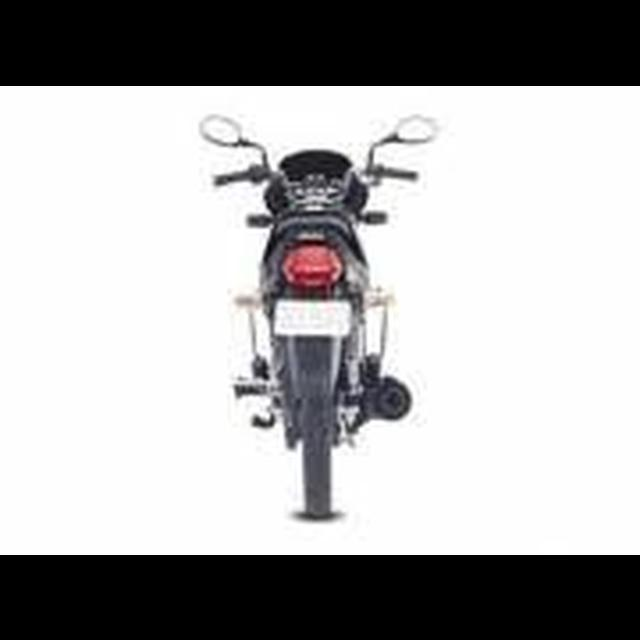motorcycle: (193, 105, 442, 524)
